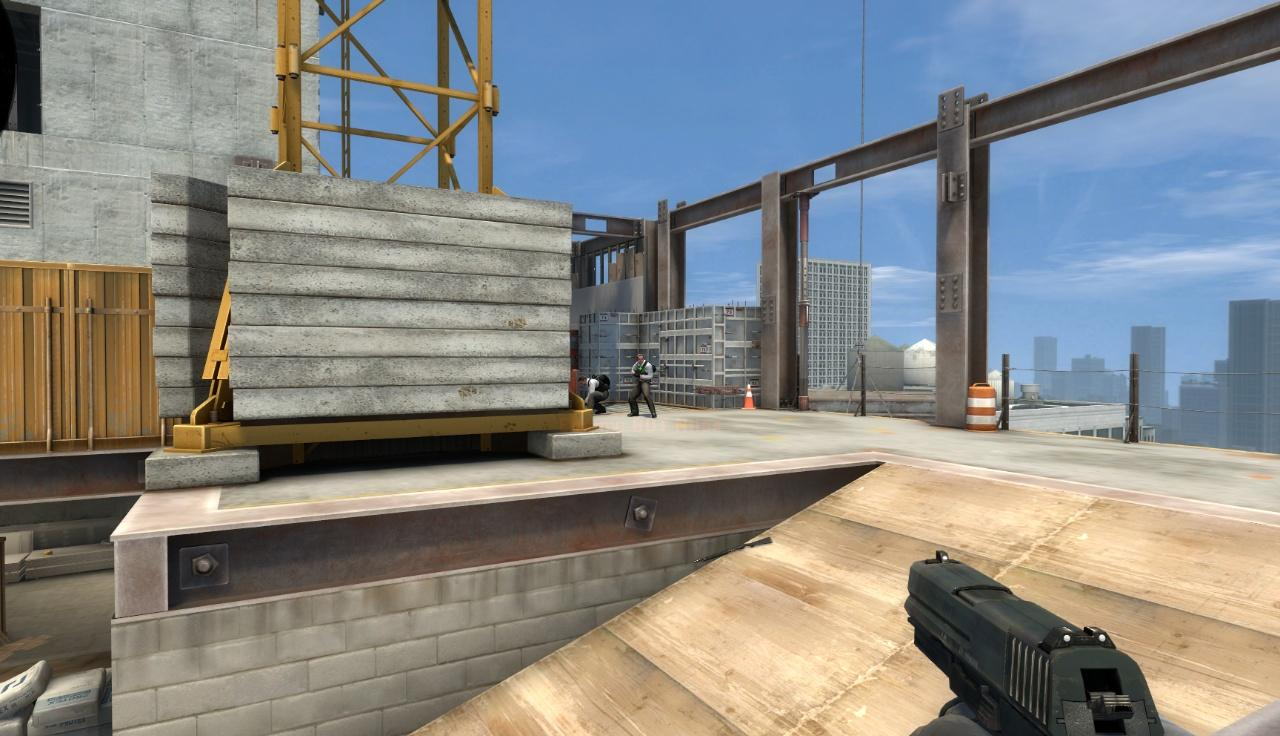pistol: (904, 546, 1162, 736)
tt: (632, 355, 656, 418), (578, 374, 607, 413)
tthead: (578, 375, 586, 385), (637, 354, 644, 363)
